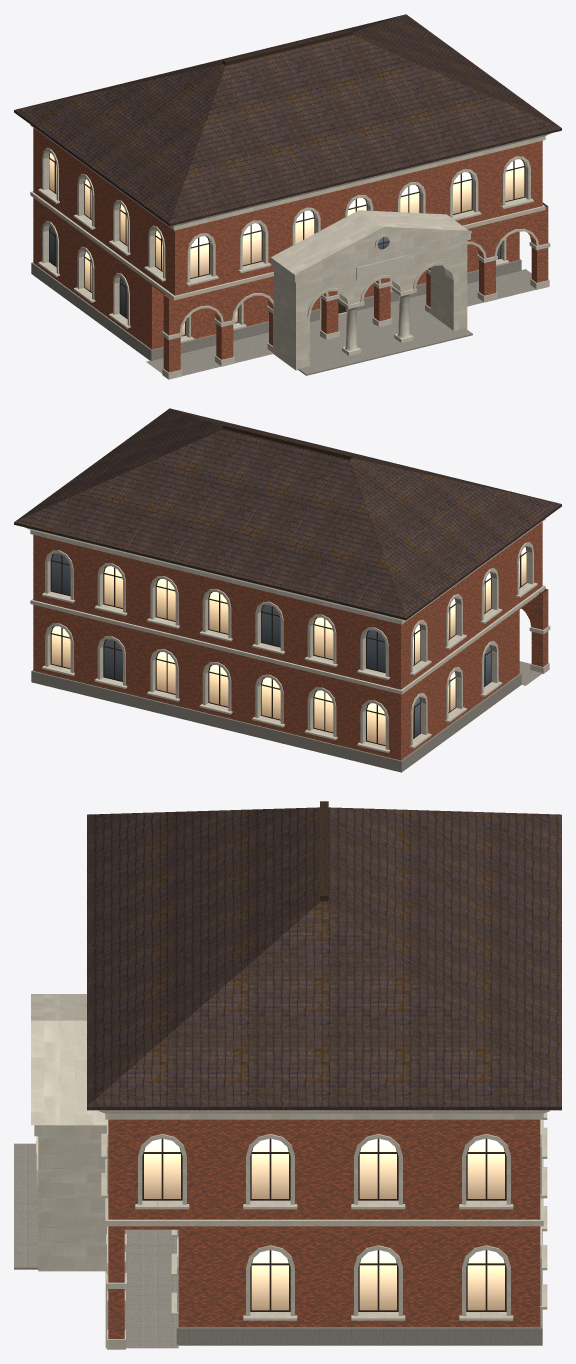
The model's file is campus_hist.glb.
The picture shows the model from 3 angles, top to bottom: view 1: azimuth 30°, elevation 25°; view 2: azimuth 150°, elevation 25°; view 3: azimuth 270°, elevation 25°; orthographic projection. The views are drawn at different scales.
Visible parts, largest first — view 1: wz_vc_his, seethru_ck_tiles, his_glass, PLATE_FACE_HIST; view 2: wz_vc_his, his_glass, seethru_ck_tiles; view 3: wz_vc_his, his_glass, seethru_ck_tiles.
Part boxes in pixels (<box>): wz_vc_his: <box>14,14,561,378</box>; seethru_ck_tiles: <box>161,202,550,379</box>; his_glass: <box>49,153,524,335</box>; PLATE_FACE_HIST: <box>359,258,405,278</box>; wz_vc_his: <box>14,408,561,772</box>; his_glass: <box>51,547,526,745</box>; seethru_ck_tiles: <box>529,588,550,673</box>; wz_vc_his: <box>14,801,561,1348</box>; his_glass: <box>144,1139,504,1310</box>; seethru_ck_tiles: <box>36,1136,126,1349</box>.
Size of the model in its own units: 25.6 by 14.67 by 20.3.
Materials: 4 (2 with a texture image).
